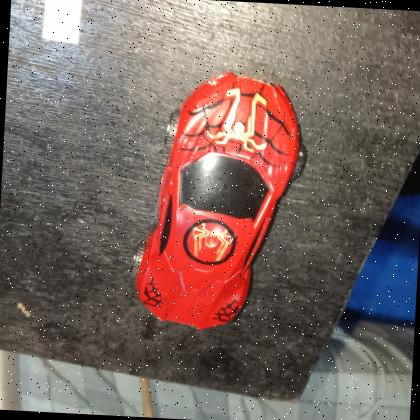Car: (127, 64, 310, 336)
